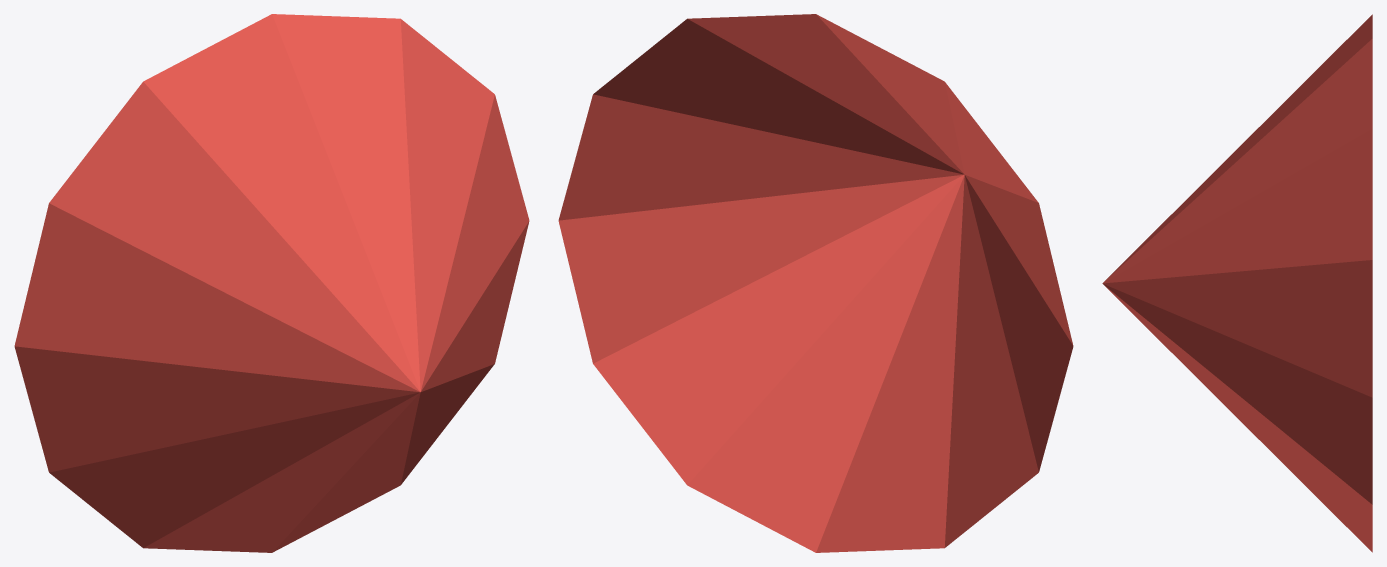
The model's file is crowded_pole.glb.
The picture shows the model from 3 angles, left to right: view 1: azimuth 30°, elevation 25°; view 2: azimuth 150°, elevation 25°; view 3: azimuth 270°, elevation 25°; orthographic projection. The views are drawn at different scales.
Visible parts, largest first — view 1: Crowded pole; view 2: Crowded pole; view 3: Crowded pole.
Boxes of the visible parts, x1=… form: Crowded pole: x1=14, y1=14, x2=529, y2=552; Crowded pole: x1=558, y1=14, x2=1073, y2=552; Crowded pole: x1=1102, y1=14, x2=1372, y2=552.
Bounding box in the file's own units: 2 × 2 × 1.
